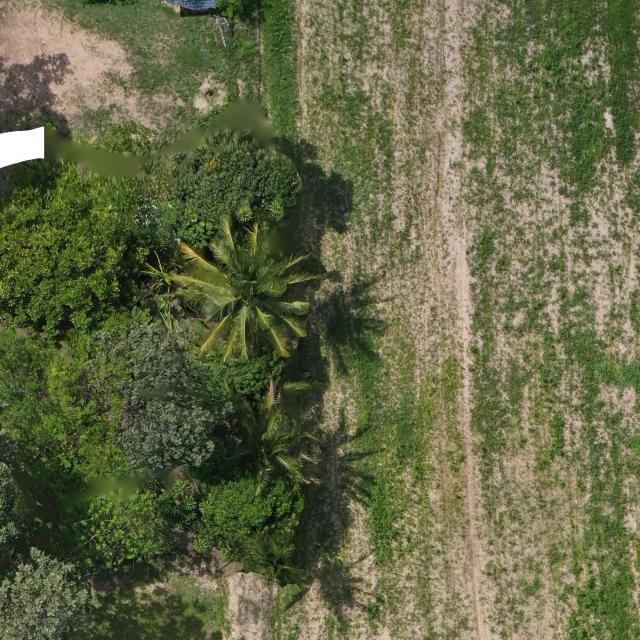Tree: (169, 220, 326, 363), (86, 322, 220, 471), (0, 180, 125, 336), (174, 125, 305, 245), (0, 324, 85, 452), (200, 474, 310, 556), (0, 542, 90, 640), (72, 488, 170, 576)
